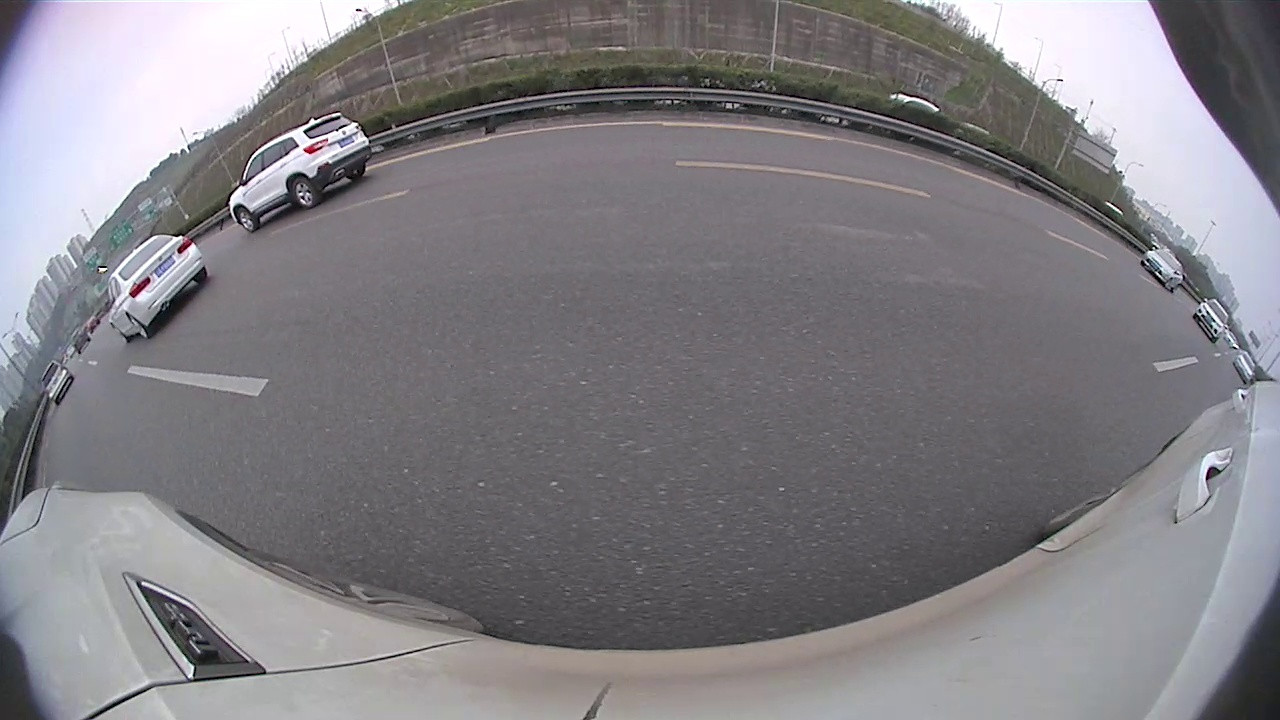car: (1040, 231, 1279, 426), (220, 149, 493, 299), (571, 107, 795, 262), (916, 183, 1054, 260), (795, 154, 845, 203), (541, 161, 576, 194), (845, 172, 876, 205)
front: (1059, 268, 1122, 342), (476, 191, 492, 230), (919, 205, 934, 229)
rear: (365, 217, 407, 279), (983, 226, 1004, 252), (799, 184, 811, 199)
